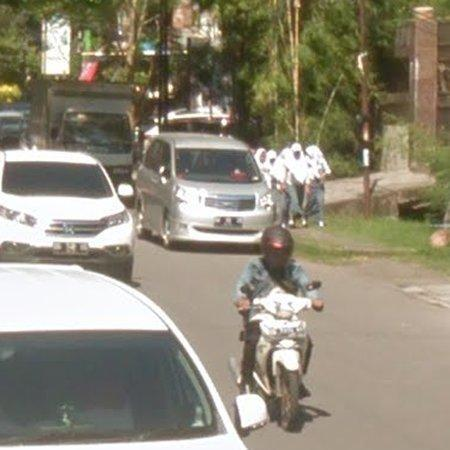motorcycles: (250, 288, 313, 429)
